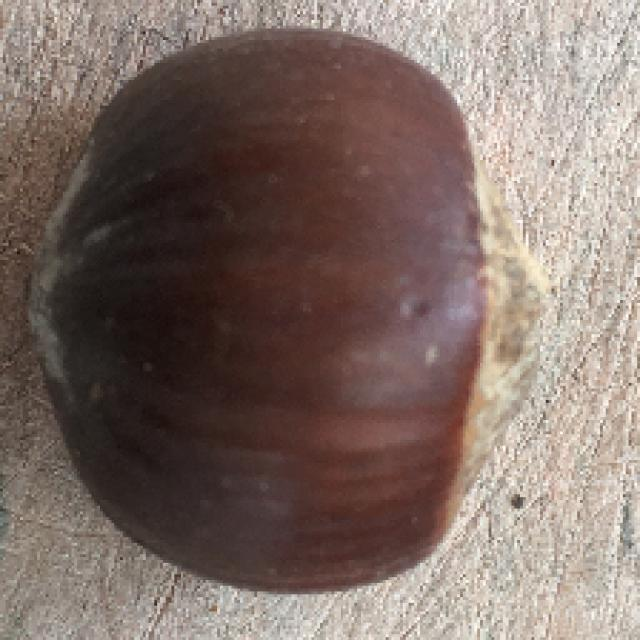damagedHazelnut: (34, 24, 554, 602)
